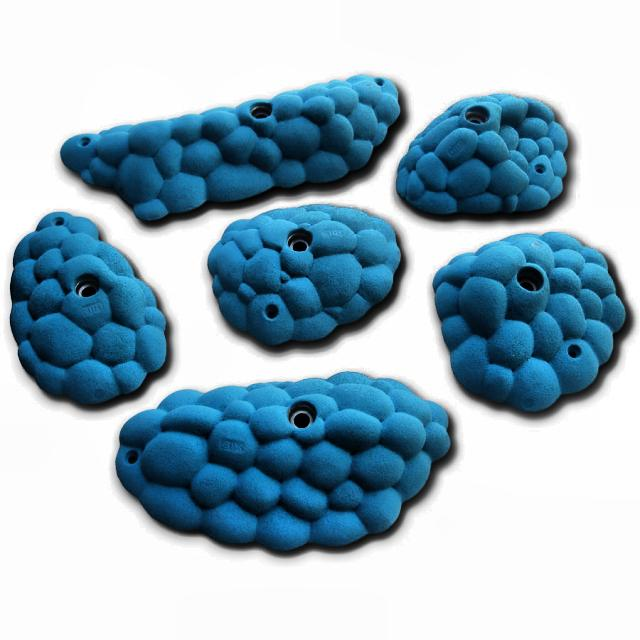Hold: (107, 391, 448, 548), (48, 58, 398, 204), (12, 210, 175, 406), (434, 237, 614, 410), (201, 208, 396, 354), (400, 95, 570, 217)
